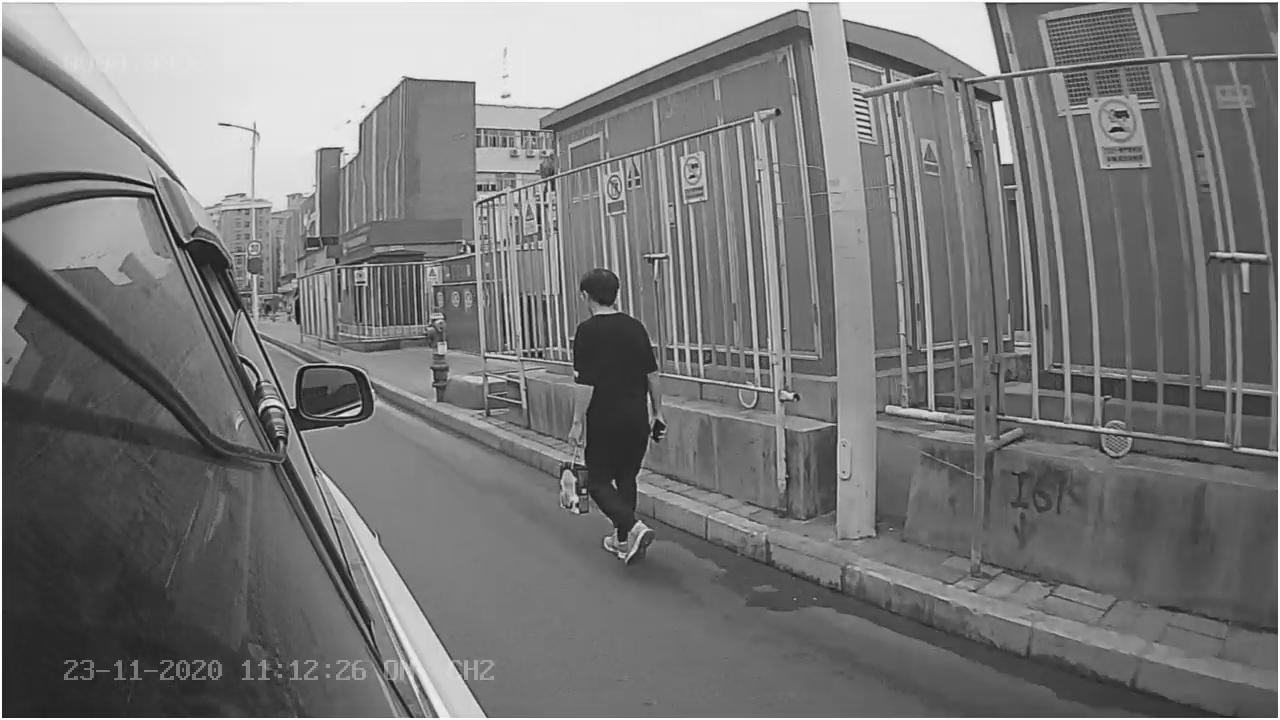person: (550, 267, 671, 561)
